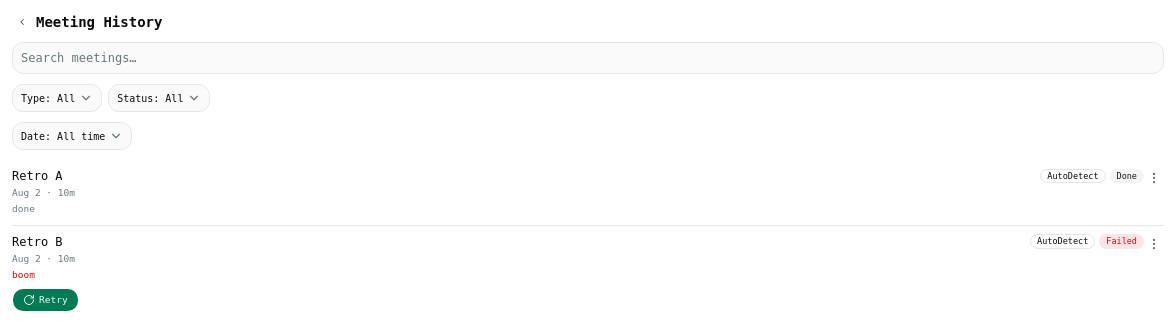
MeetingHistory › with several meetings › combines search with the status filter (AND logic)
The width and height of the screenshot is (1176, 328).
Check: the text "Retro A" is shown, box [12,168,63,184]
Type "Retro" into the field with placeholder "Search meetings…" at (588, 58), box [12,42,1164,74]
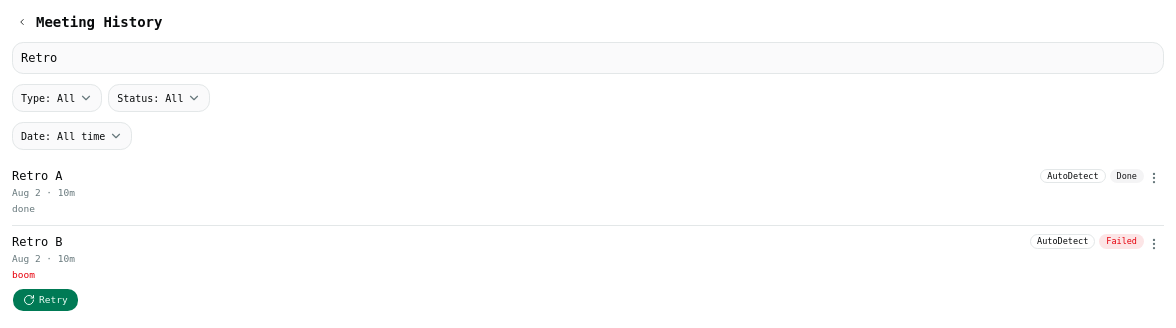
Click the dropdown labelled "Status: All" at (159, 98), box [108,84,210,112]
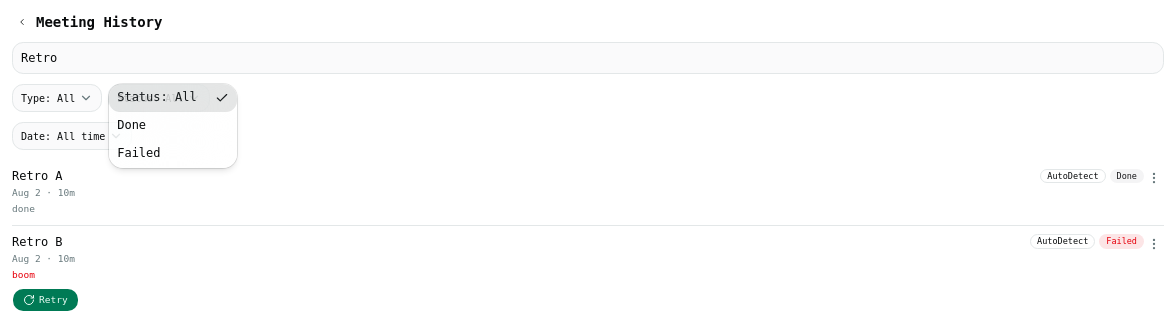
Click the option "Failed" at (139, 153), box [117,146,161,160]
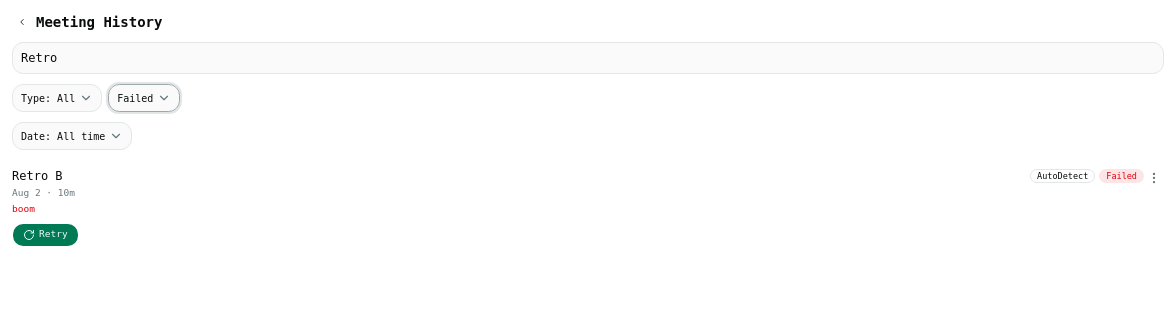
Check: the text "Retro B" is shown, box [12,168,63,184]
Check: the text "Retro A" is gone
